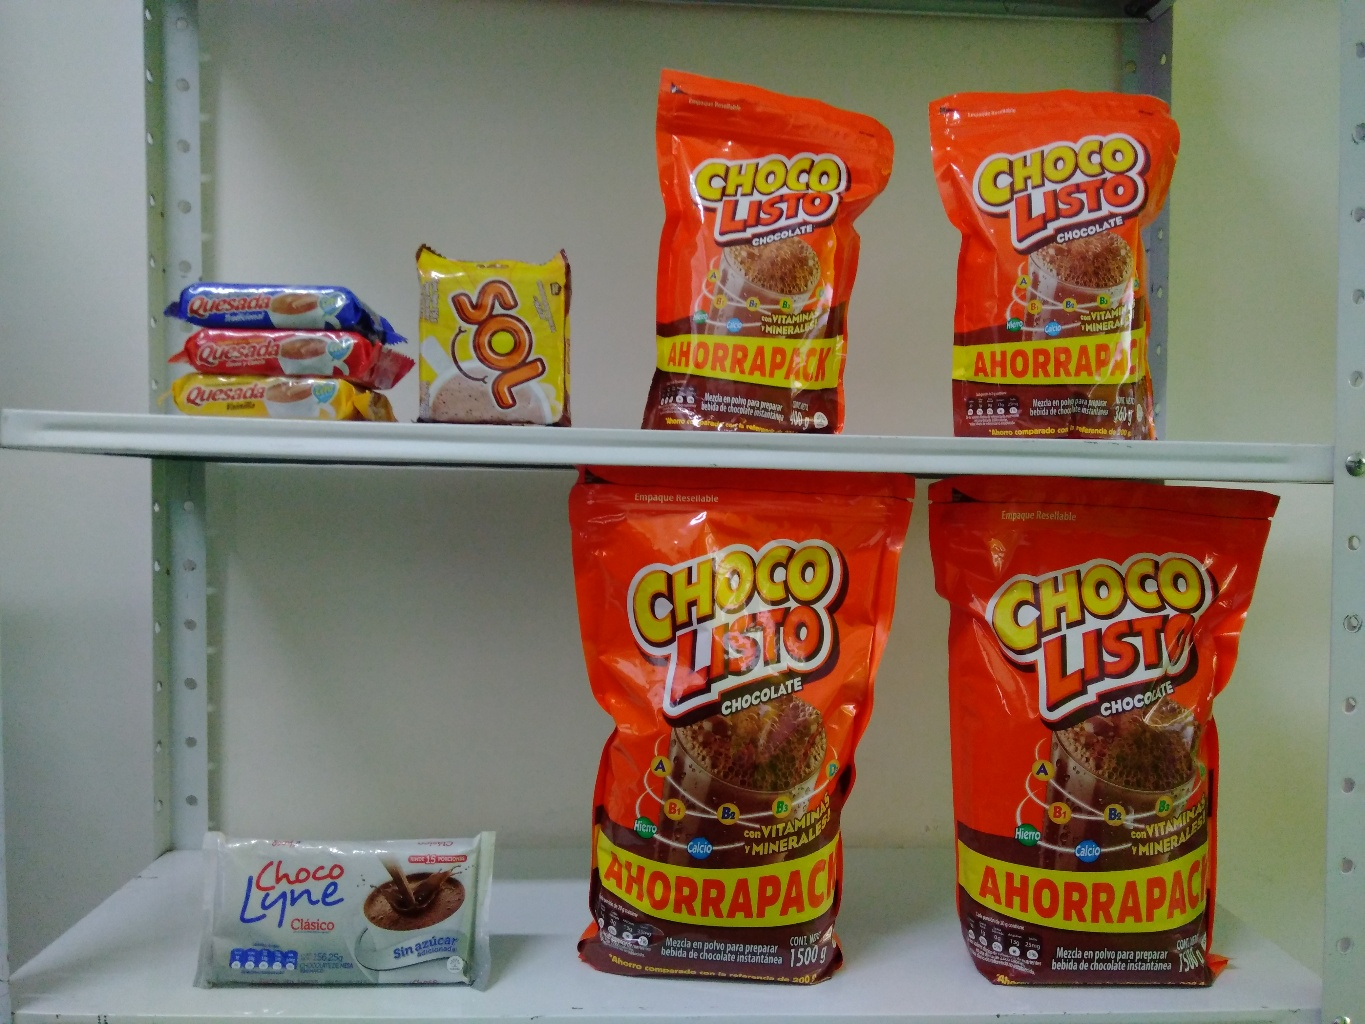COL0170103DYP1,500: (920, 469, 1286, 1005)
COL0170103DYP36000: (915, 77, 1207, 447)
COL0170103DYP40000: (631, 61, 902, 443)
